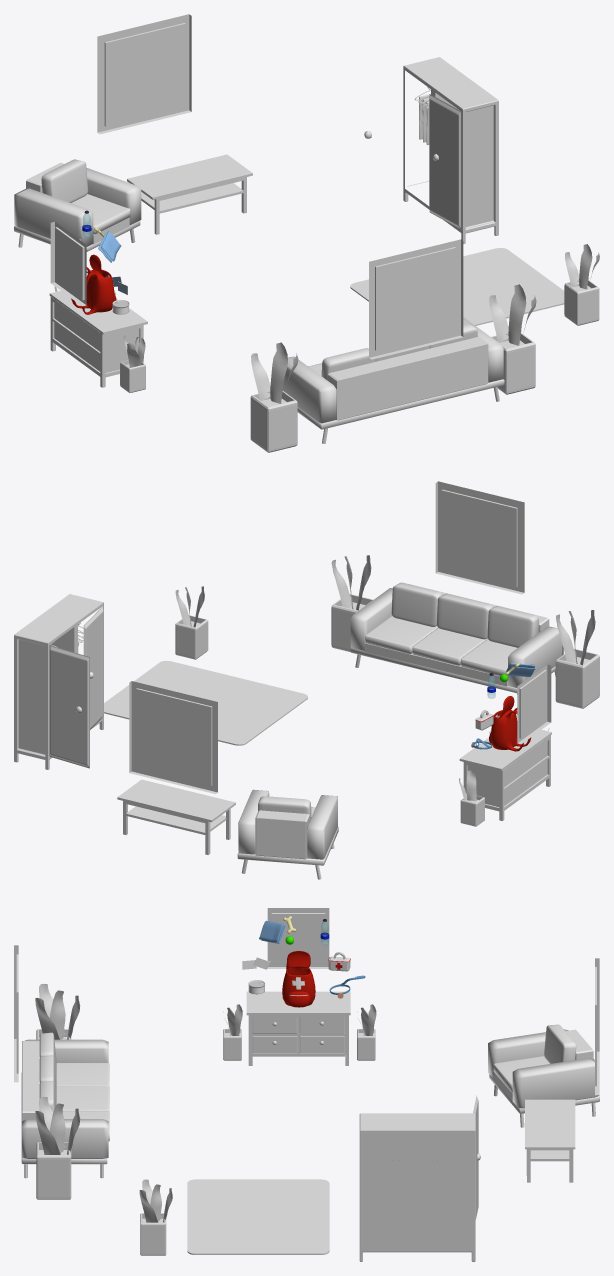
File: casa-escenario.glb
The picture shows the model from 3 angles, top to bottom: view 1: azimuth 30°, elevation 25°; view 2: azimuth 150°, elevation 25°; view 3: azimuth 270°, elevation 25°; orthographic projection. The views are drawn at different scales.
Visible parts, largest first — view 1: sofa, cuadro2, cuadro1, sillon, Cube.008, alfombra, mesa-primeros-auxilios, mesita, Cube.010, matera1, matera1.001, cuadro3 (+3 smaller); view 2: sofa, cuadro1, cuadro2, Cube.008, alfombra, sillon, mesa-primeros-auxilios, Cube.007, mesita, matera1, cuadro3, matera1.001 (+4 smaller); view 3: Cube.008, alfombra, sofa, sillon, mesa-primeros-auxilios, mesita, matera1.001, cuadro3, matera3.002, matera1, matera3, matera3.001 (+5 smaller).
Part boxes in pixels (x1,y1,x2,y2): sofa: [283, 317, 504, 443]; cuadro2: [97, 14, 191, 134]; cuadro1: [369, 239, 463, 359]; sillon: [14, 159, 141, 251]; Cube.008: [403, 57, 498, 243]; alfombra: [350, 248, 564, 325]; mesa-primeros-auxilios: [49, 291, 147, 387]; mesita: [127, 154, 252, 234]; Cube.010: [429, 94, 461, 229]; matera1: [250, 342, 298, 452]; matera1.001: [489, 284, 536, 394]; cuadro3: [50, 221, 86, 306]; sofa: [350, 582, 563, 694]; cuadro1: [435, 481, 524, 594]; cuadro2: [129, 681, 217, 794]; Cube.008: [14, 594, 103, 769]; alfombra: [104, 660, 307, 745]; sillon: [237, 789, 338, 879]; mesa-primeros-auxilios: [459, 729, 551, 820]; Cube.007: [49, 645, 89, 768]; mesita: [117, 779, 235, 854]; matera1: [555, 610, 599, 708]; cuadro3: [517, 664, 551, 744]; matera1.001: [331, 555, 373, 651]; Cube.008: [359, 1113, 475, 1261]; alfombra: [187, 1179, 329, 1254]; sofa: [21, 1032, 109, 1178]; sillon: [488, 1024, 599, 1127]; mesa-primeros-auxilios: [246, 991, 350, 1065]; mesita: [525, 1099, 575, 1182]; matera1.001: [35, 1097, 80, 1199]; cuadro3: [267, 908, 329, 968]; matera3.002: [139, 1179, 172, 1255]; matera1: [35, 983, 80, 1039]; matera3: [223, 1004, 242, 1060]; matera3.001: [357, 1004, 376, 1060].
Bounding box in the file's own units: 5.05 × 1.84 × 5.68.
Materials: 26 (3 with a texture image).
